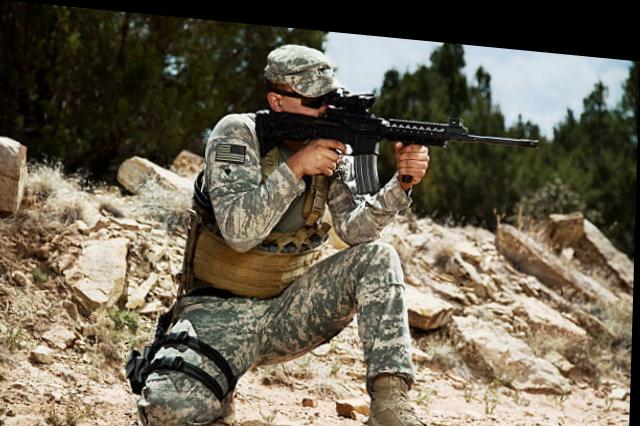other: (159, 30, 429, 424)
